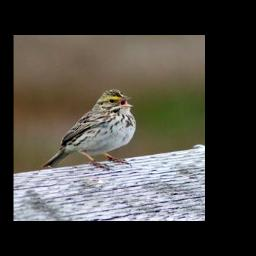Sparrow: (43, 86, 138, 172)
